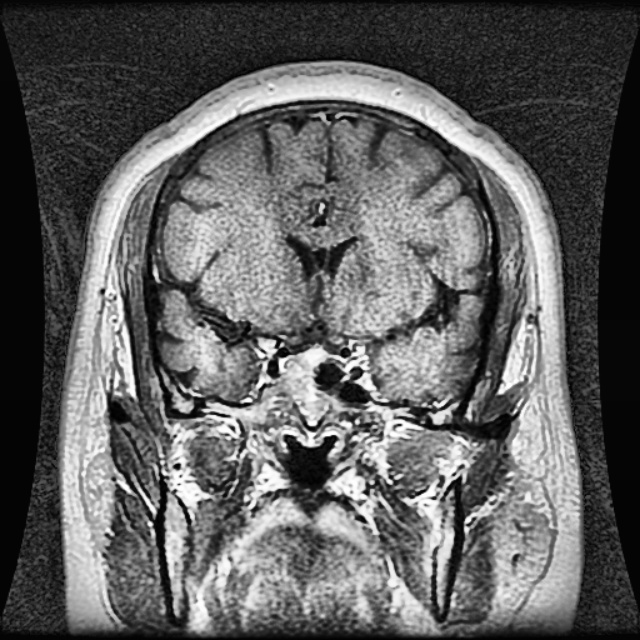Pituitary: (278, 348, 327, 423)
